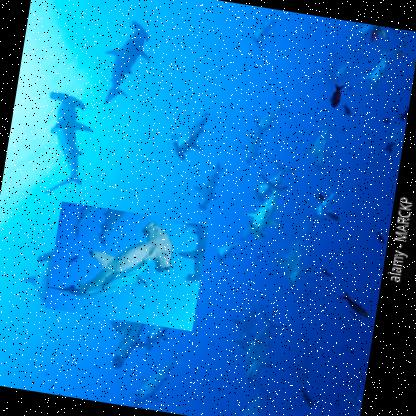hammerhead_Shark: (45, 199, 210, 330)
